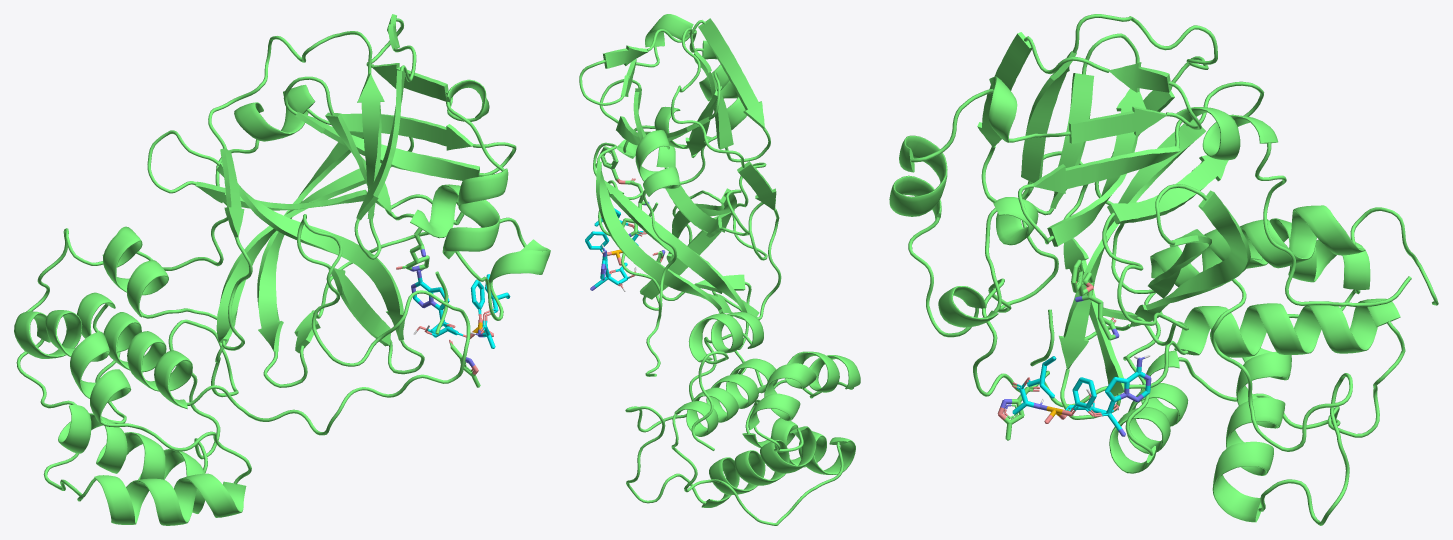
Rendered from dx4y2pe2fb4pfc5k.gltf.
3 renders of one model, left to right at view 1: azimuth 30°, elevation 25°; view 2: azimuth 150°, elevation 25°; view 3: azimuth 270°, elevation 25°, orthographic. The views are drawn at different scales.
Parts seen in each view (by area): view 1: node-geom69, node-geom70, node-geom71; view 2: node-geom69, node-geom70, node-geom71; view 3: node-geom69, node-geom70, node-geom71.
Part boxes in pixels (x1,y1,x2,y2): node-geom69: (136,14,550,387); node-geom70: (14,214,470,525); node-geom71: (26,226,448,334); node-geom69: (579,14,781,376); node-geom70: (625,162,860,525); node-geom71: (648,202,759,450); node-geom69: (889,14,1411,369); node-geom70: (973,151,1405,525); node-geom71: (1030,205,1438,366).
Size of the model in its own units: 45.96 by 60 by 53.36.
